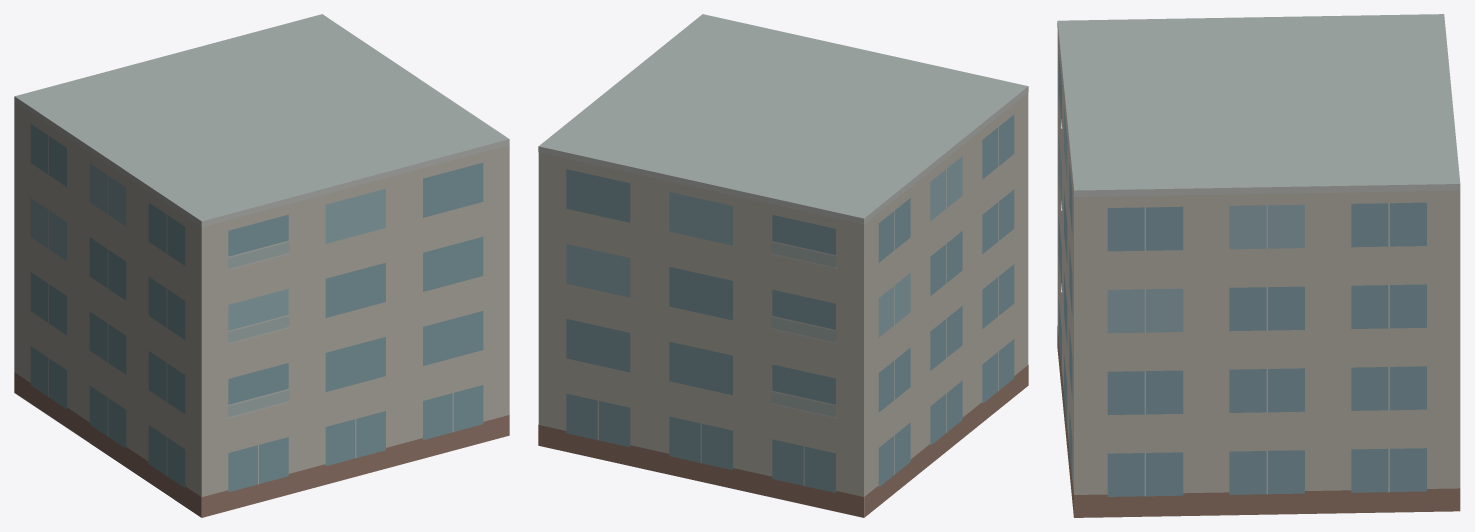
Rendered from residential-6db0b9db-e41a-4229-ae9f-4fe350e06e38.glb.
3 renders of one model, left to right at view 1: azimuth 30°, elevation 25°; view 2: azimuth 150°, elevation 25°; view 3: azimuth 270°, elevation 25°, orthographic. The views are drawn at different scales.
Parts seen in each view (by area): view 1: residential-6db0b9db-e41a-4229-ae9f-4fe350e06e38.tmp; view 2: residential-6db0b9db-e41a-4229-ae9f-4fe350e06e38.tmp; view 3: residential-6db0b9db-e41a-4229-ae9f-4fe350e06e38.tmp.
Part boxes in pixels (<box>): residential-6db0b9db-e41a-4229-ae9f-4fe350e06e38.tmp: <box>14,14,509,517</box>; residential-6db0b9db-e41a-4229-ae9f-4fe350e06e38.tmp: <box>538,14,1028,517</box>; residential-6db0b9db-e41a-4229-ae9f-4fe350e06e38.tmp: <box>1057,14,1460,517</box>.
Size of the model in its own units: 14.12 by 12.2 by 13.62.
